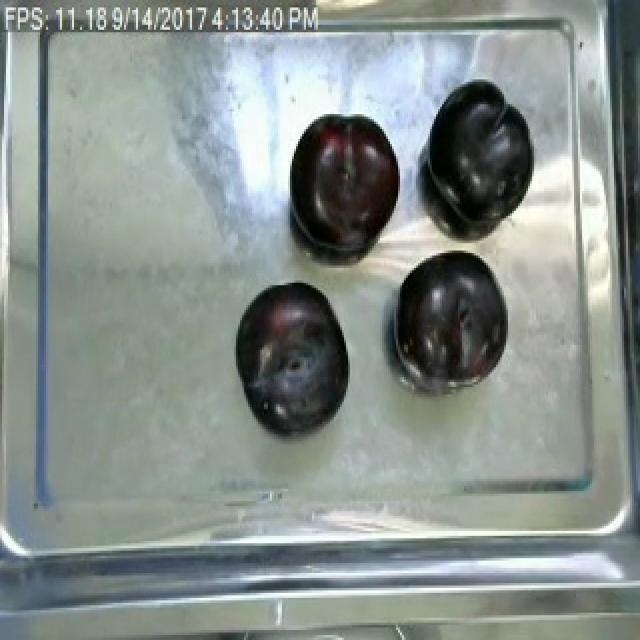Fruit: (230, 275, 354, 434), (284, 107, 408, 260), (418, 77, 540, 231), (390, 248, 512, 392)
